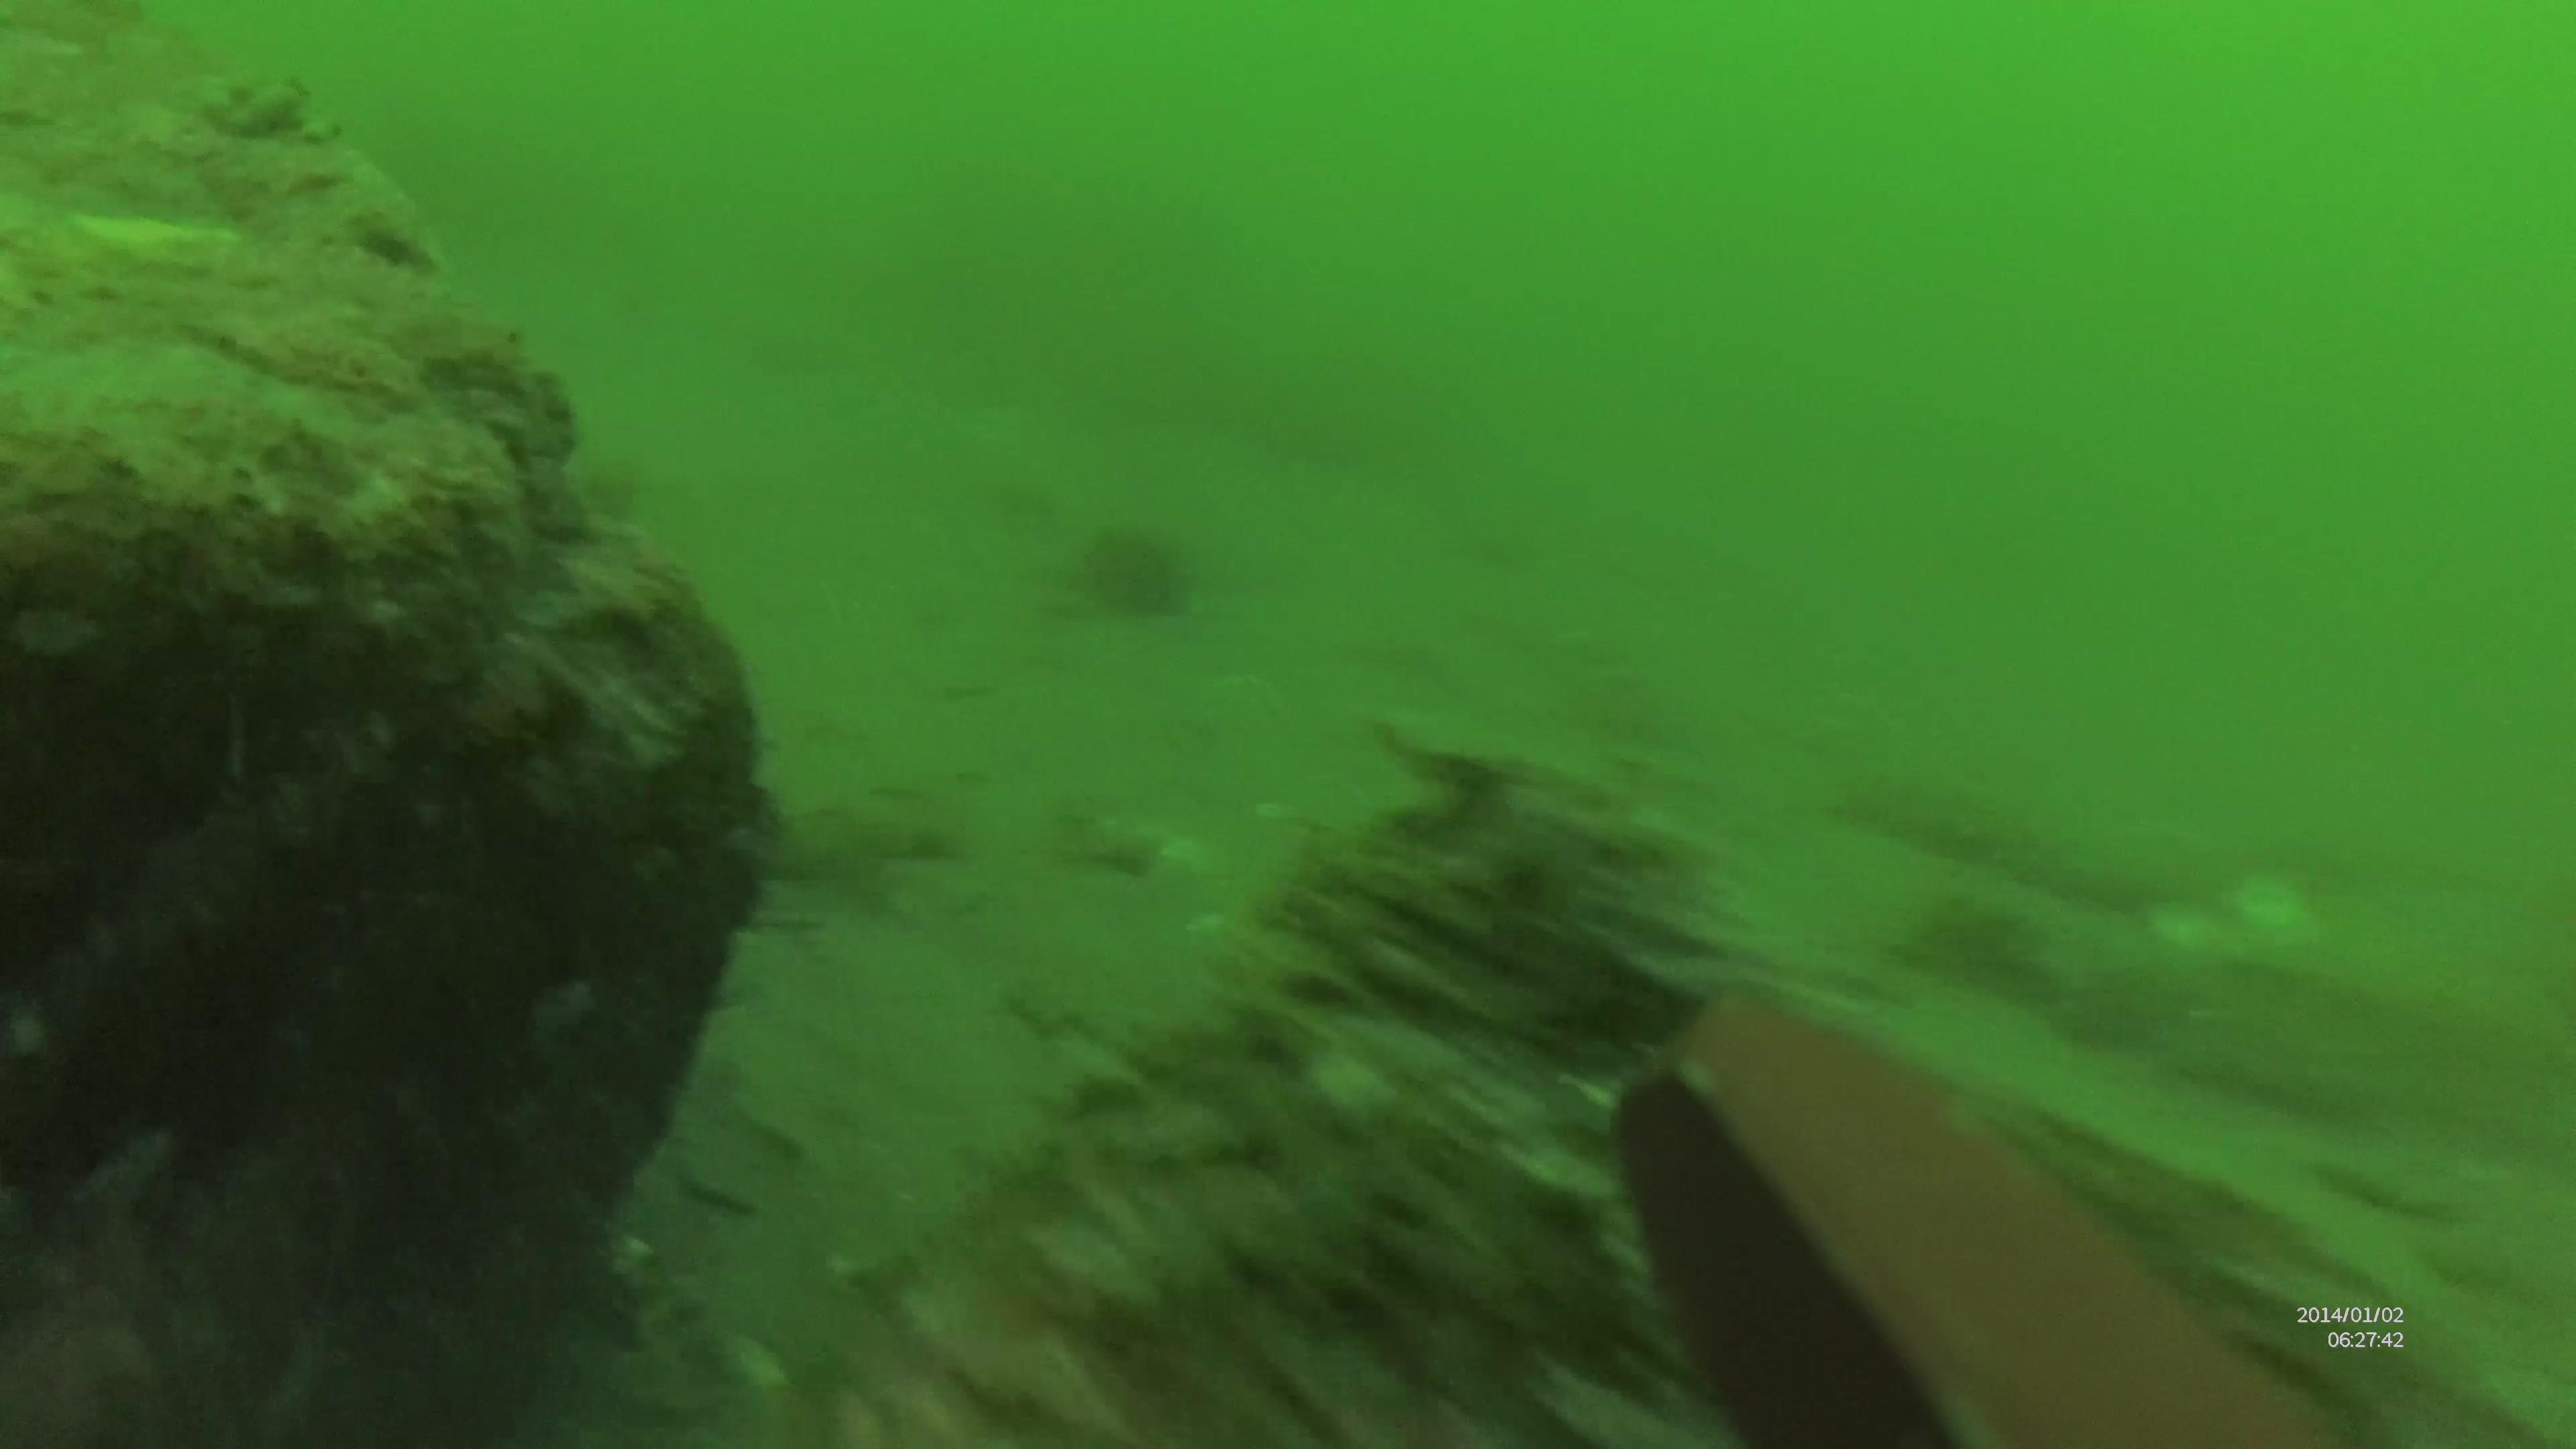echinus: (1077, 531, 1191, 637)
